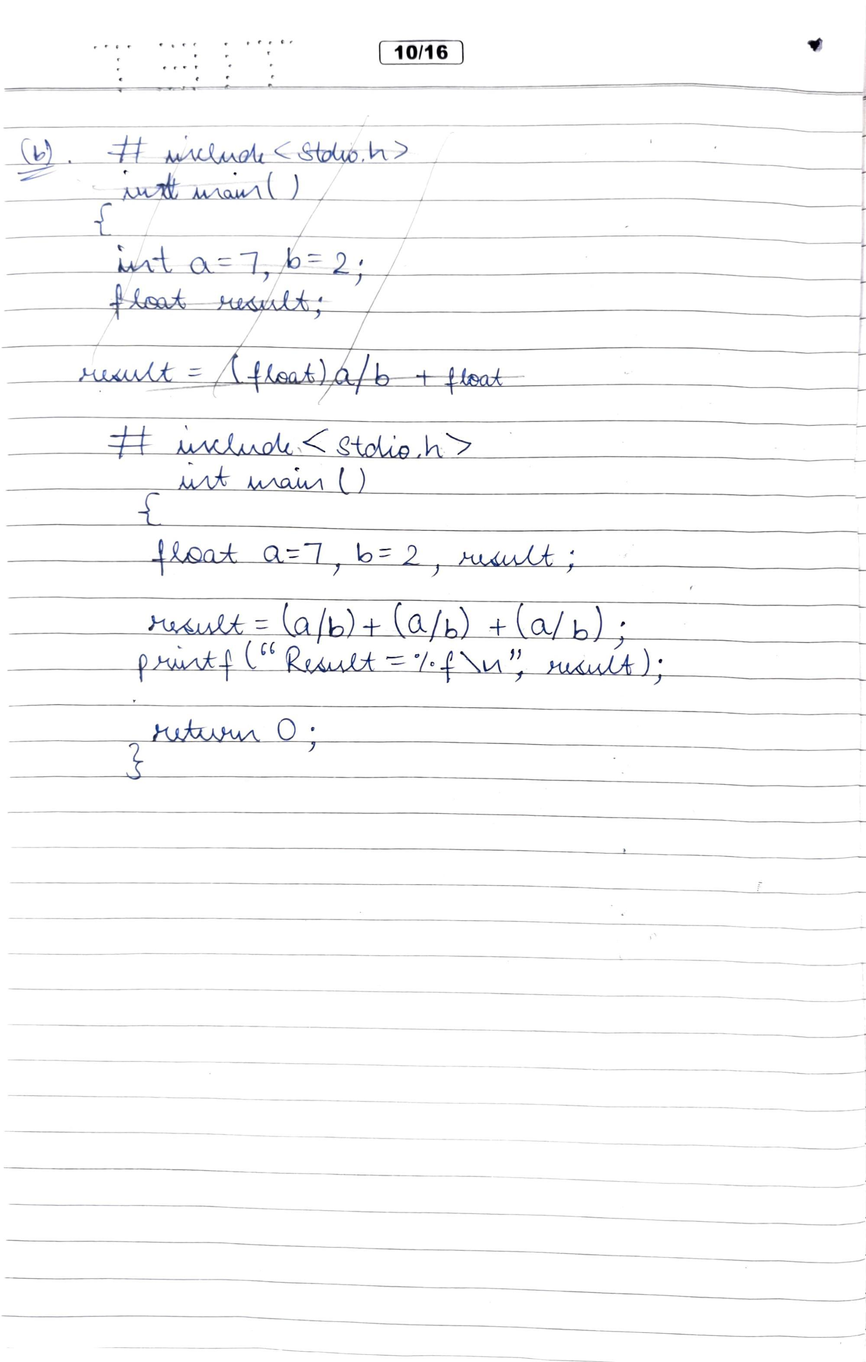cuttings: (74, 110, 530, 409)
